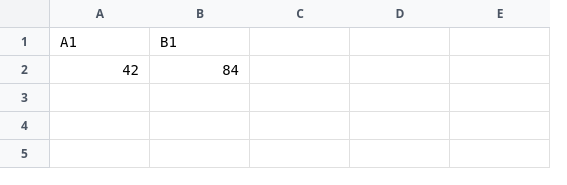
Test: Grid Component › highlights selected row header with blue background
Click row header for row 1 (index 0)
Press the mouse on the text "1": (25, 42) x1=0 y1=28 x2=50 y2=56
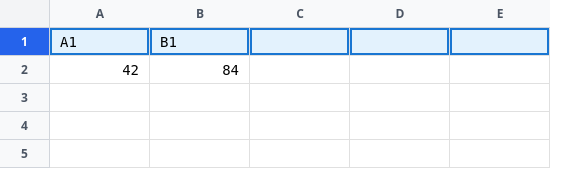
Check: the text "1" has class "bg-blue-600", box x1=0 y1=28 x2=50 y2=56
Check: the text "1" has class "text-white", box x1=0 y1=28 x2=50 y2=56
